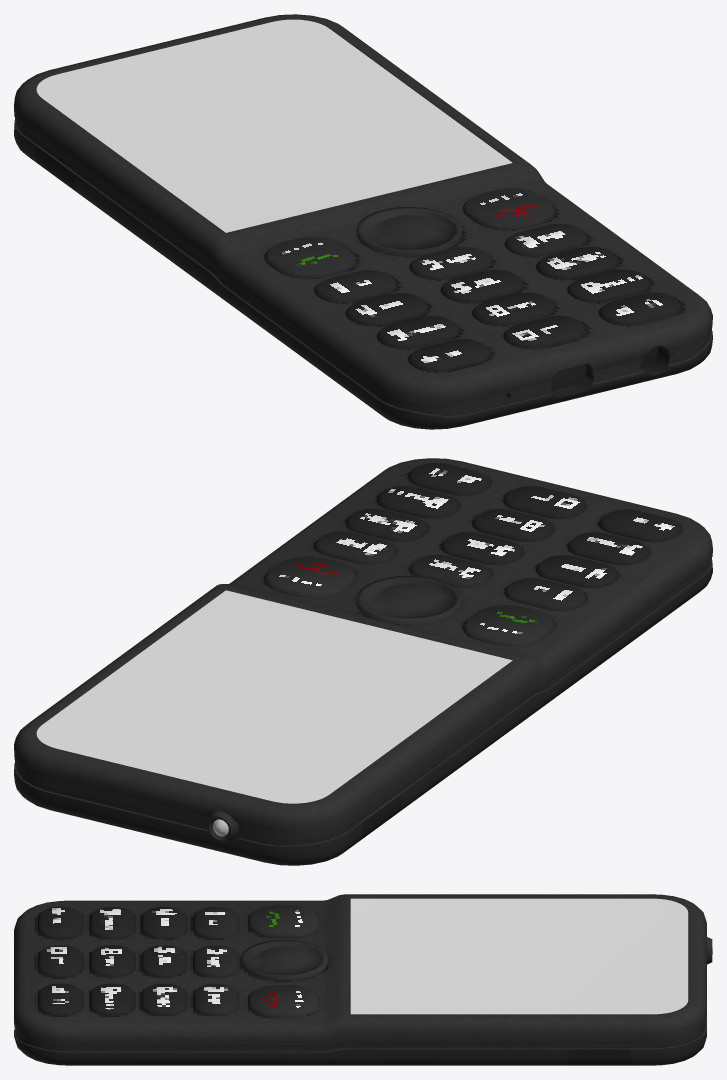
The model's file is scrap_phone.glb.
3 views of the same model, one above another, from view 1: azimuth 30°, elevation 25°; view 2: azimuth 150°, elevation 25°; view 3: azimuth 270°, elevation 25° (orthographic). The views are drawn at different scales.
Parts seen in each view (by area): view 1: phone_low, transparentobjects, buttonmiddle_low, buttonhaut001_low, buttonhaut_low, button0_low, button9_low, button6_low, buttondiez_low, button3_low, button1_low, button2_low (+5 smaller); view 2: phone_low, transparentobjects, buttonmiddle_low, buttonhaut_low, buttonhaut001_low, button7_low, button3_low, buttonetoile_low, button6_low, button4_low, buttondiez_low, button0_low (+5 smaller); view 3: phone_low, transparentobjects, buttonmiddle_low, buttonhaut_low, buttonhaut001_low, button9_low, button6_low, button8_low, button5_low, button4_low, button7_low, button0_low (+5 smaller).
Part boxes in pixels (left/top/right/bottom): phone_low: left=14, top=14, right=712, bottom=429; transparentobjects: left=36, top=19, right=512, bottom=232; buttonmiddle_low: left=356, top=207, right=462, bottom=256; buttonhaut001_low: left=462, top=188, right=555, bottom=229; buttonhaut_low: left=264, top=236, right=356, bottom=278; button0_low: left=503, top=315, right=586, bottom=348; button9_low: left=567, top=269, right=650, bottom=302; button6_low: left=536, top=246, right=619, bottom=279; buttondiez_low: left=598, top=292, right=681, bottom=325; button3_low: left=504, top=223, right=587, bottom=256; button1_low: left=314, top=270, right=397, bottom=302; button2_low: left=409, top=246, right=492, bottom=279; phone_low: left=14, top=458, right=712, bottom=865; transparentobjects: left=36, top=590, right=512, bottom=836; buttonmiddle_low: left=356, top=576, right=462, bottom=625; buttonhaut_low: left=463, top=605, right=555, bottom=646; buttonhaut001_low: left=264, top=556, right=356, bottom=597; button7_low: left=567, top=532, right=650, bottom=565; button3_low: left=314, top=531, right=397, bottom=564; buttonetoile_low: left=598, top=509, right=681, bottom=542; button6_low: left=345, top=508, right=428, bottom=541; button4_low: left=536, top=555, right=619, bottom=588; buttondiez_low: left=408, top=462, right=491, bottom=495; button0_low: left=503, top=486, right=586, bottom=518; phone_low: left=14, top=894, right=712, bottom=1065; transparentobjects: left=350, top=898, right=712, bottom=1014; buttonmiddle_low: left=241, top=939, right=328, bottom=980; buttonhaut_low: left=248, top=905, right=319, bottom=937; buttonhaut001_low: left=248, top=985, right=319, bottom=1017; button9_low: left=89, top=983, right=135, bottom=1015; button6_low: left=141, top=983, right=187, bottom=1015; button8_low: left=89, top=945, right=135, bottom=977; button5_low: left=141, top=945, right=187, bottom=977; button4_low: left=141, top=906, right=187, bottom=938; button7_low: left=89, top=906, right=135, bottom=938; button0_low: left=38, top=945, right=83, bottom=977.
Bounding box in the file's own units: 0.0979 × 0.02 × 0.22.
Materials: 2 (1 with a texture image).
